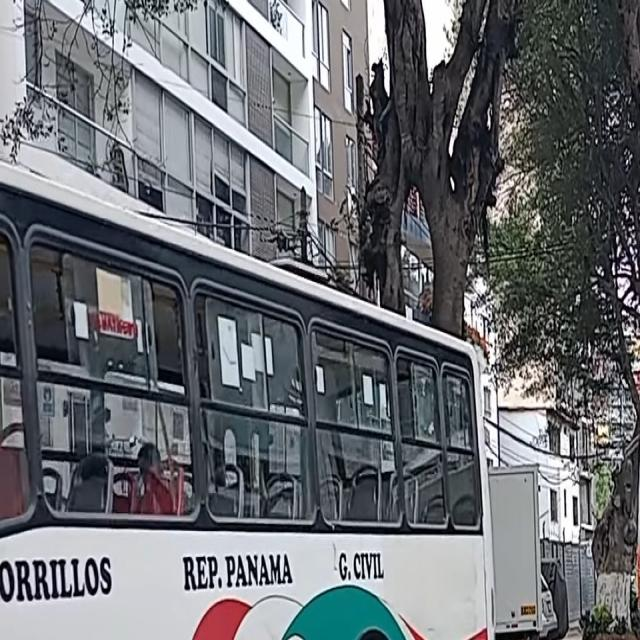bus: (0, 156, 500, 640), (633, 358, 640, 640)
